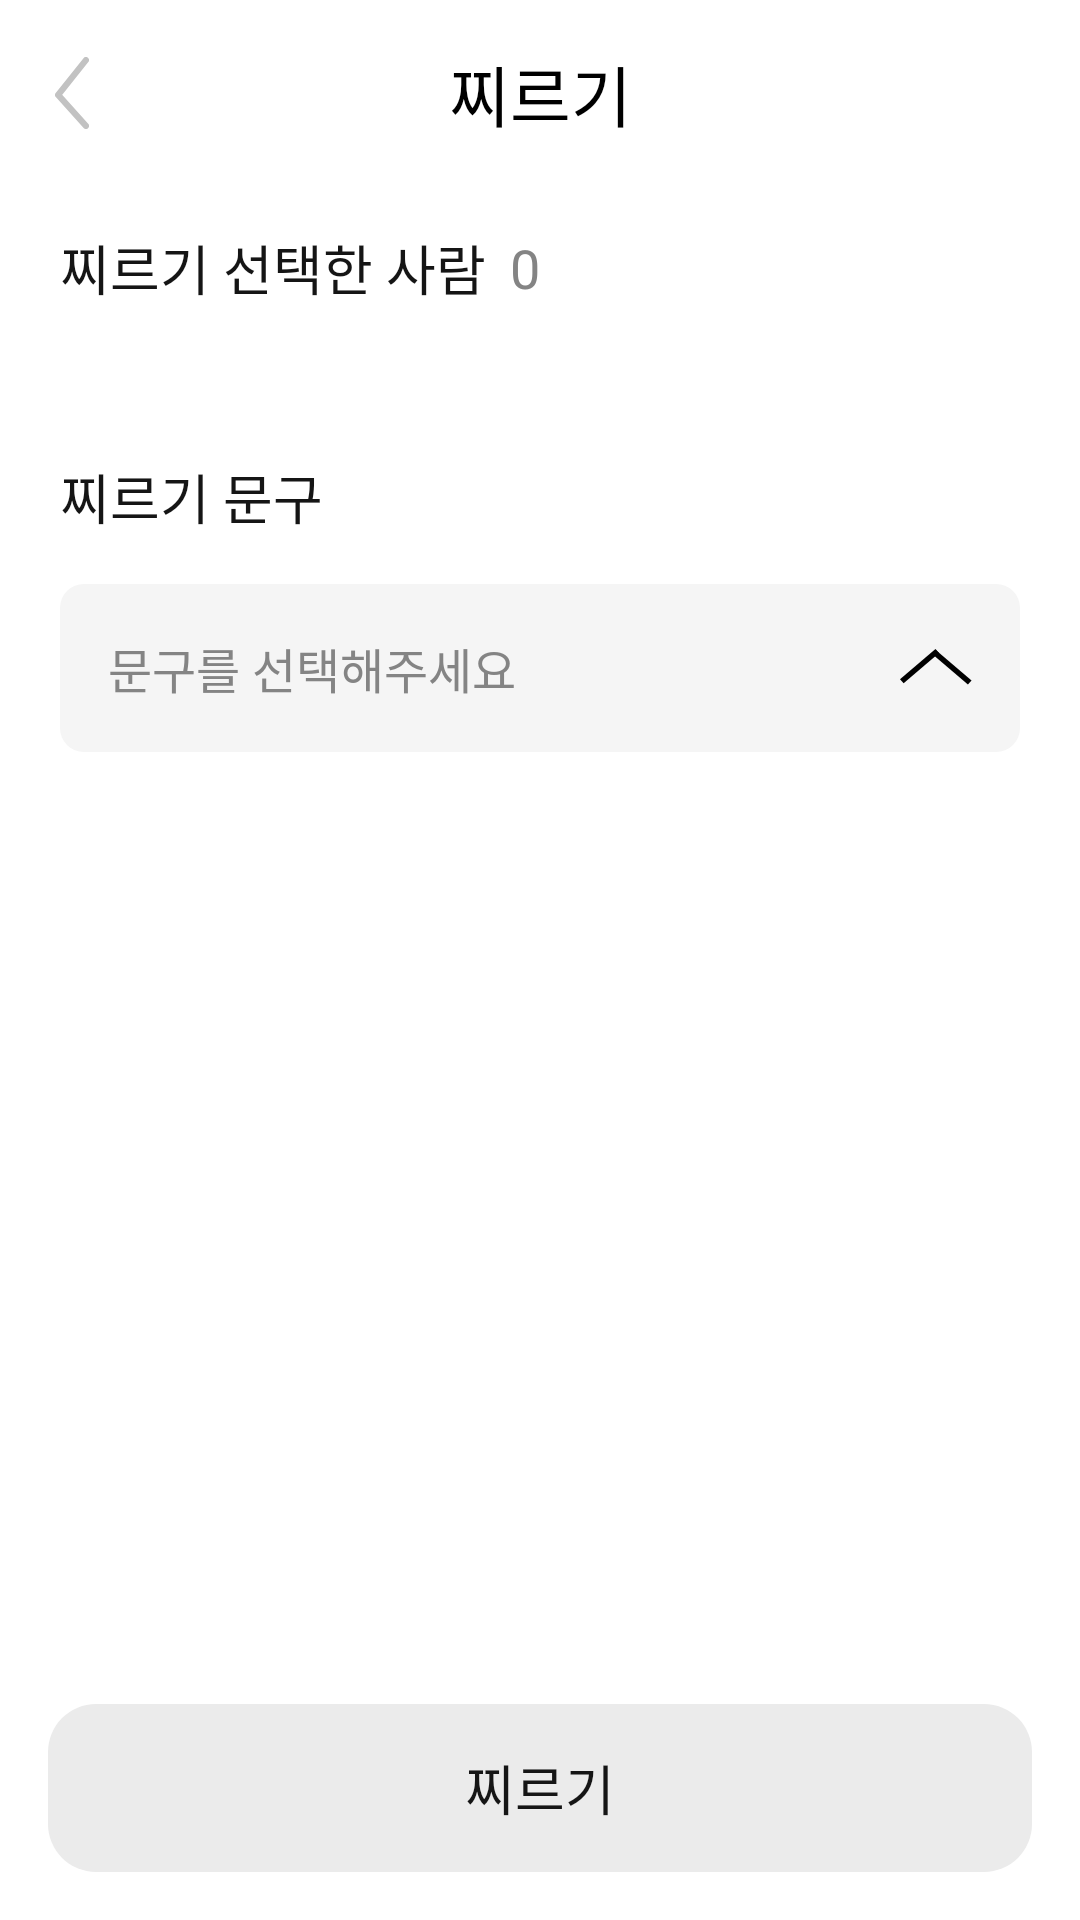

Screen size 1080 × 1920. Icon name, then its center in pixels as (x=x, y=y):
arrow back: (x=72, y=93)
